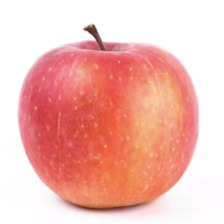apple: (47, 40, 182, 192)
